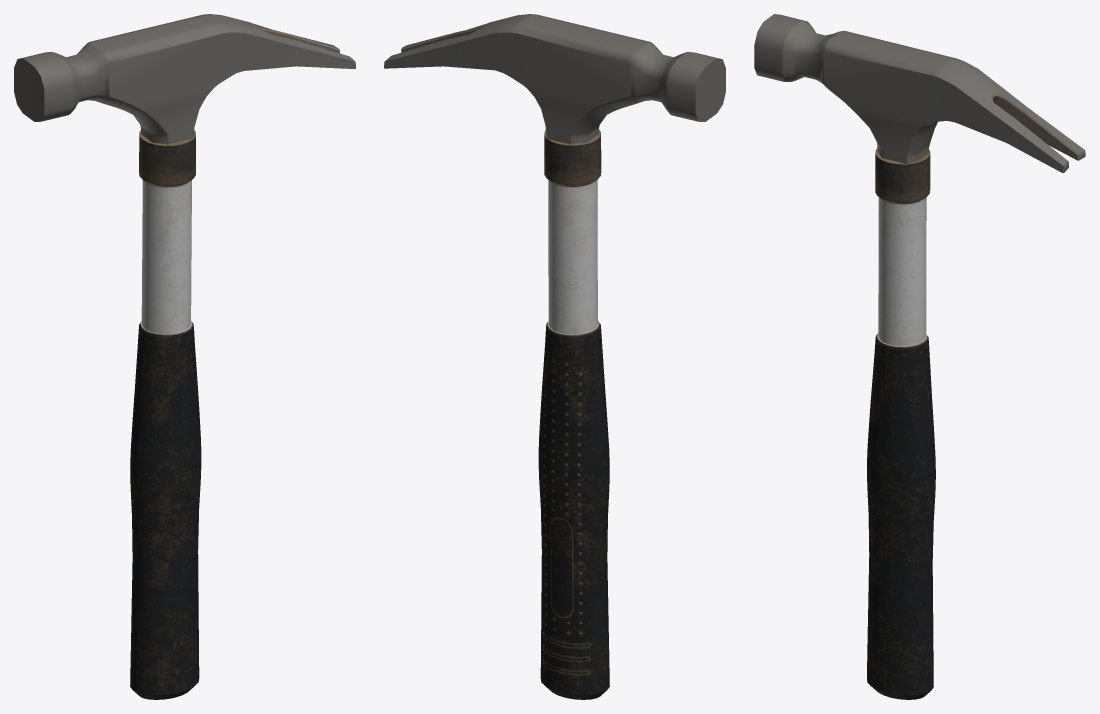
File: hammer.glb
The picture shows the model from 3 angles, left to right: view 1: azimuth 30°, elevation 25°; view 2: azimuth 150°, elevation 25°; view 3: azimuth 330°, elevation 25°; orthographic projection. The views are drawn at different scales.
Parts seen in each view (by area): view 1: pCylinder5; view 2: pCylinder5; view 3: pCylinder5.
Boxes of the visible parts, x1,y1,x2,y2 form: pCylinder5: (14,14,355,699); pCylinder5: (384,14,725,699); pCylinder5: (754,14,1085,699).
Size of the model in its own units: 0.5942 by 1.19 by 0.0986.
1 material, 1 textured.
